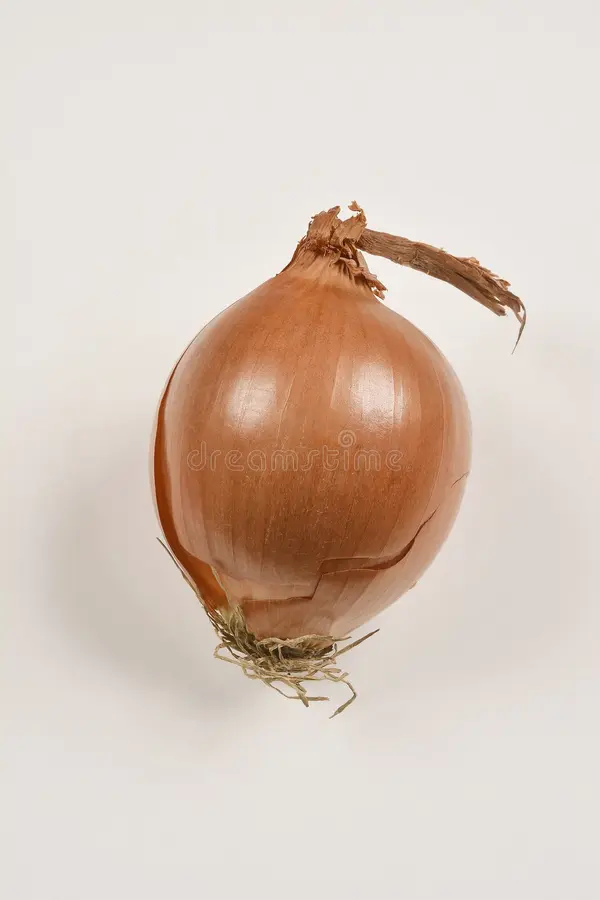onion: (138, 102, 543, 750)
